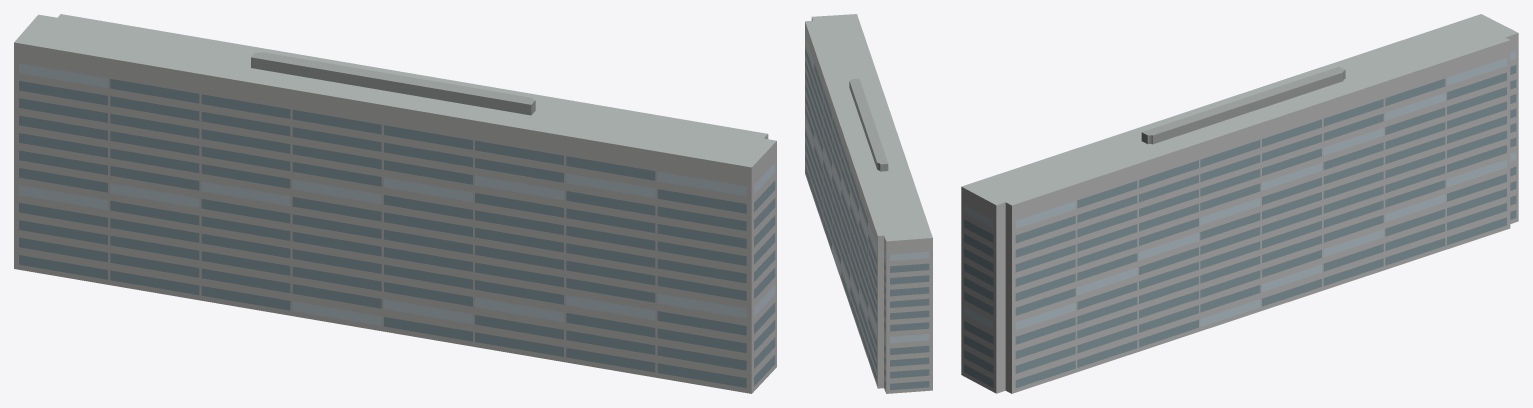
File: fallback-miseong-a.glb
The picture shows the model from 3 angles, left to right: view 1: azimuth 30°, elevation 25°; view 2: azimuth 150°, elevation 25°; view 3: azimuth 270°, elevation 25°; orthographic projection. The views are drawn at different scales.
Parts seen in each view (by area): view 1: fallback-miseong-a; view 2: fallback-miseong-a; view 3: fallback-miseong-a.
Part boxes in pixels (bbox=[...]): fallback-miseong-a: bbox=[14, 14, 776, 393]; fallback-miseong-a: bbox=[805, 14, 932, 393]; fallback-miseong-a: bbox=[961, 14, 1518, 393].
Bounding box in the file's own units: 81.22 × 39 × 99.85.
